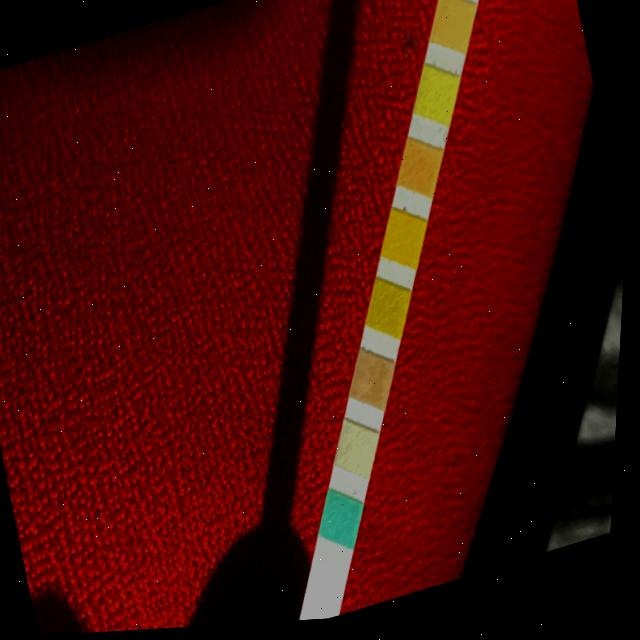Bilirubin: (342, 431, 380, 475)
Blood: (386, 221, 425, 265)
Glucose: (328, 501, 364, 546)
Ketone: (357, 362, 394, 406)
Protein: (418, 76, 456, 122)
SpGravity: (372, 290, 410, 334)
Urobilinogen: (434, 3, 472, 51)
pH: (401, 151, 441, 194)
